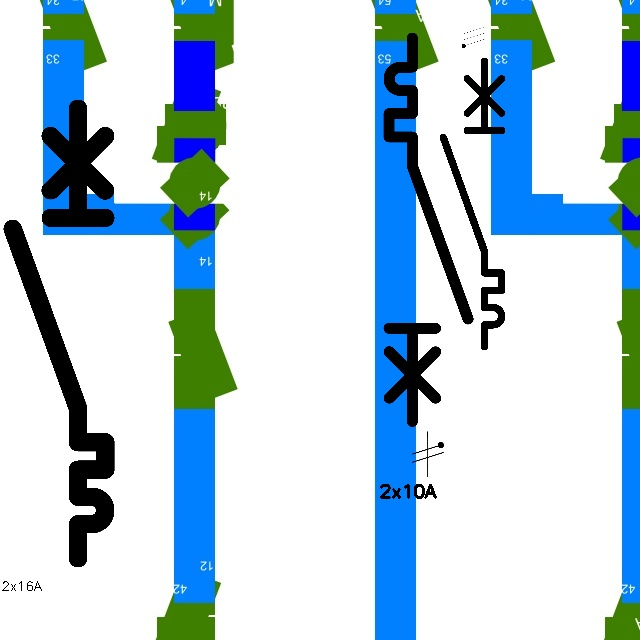interruptor_termomagnetico: (1, 97, 117, 570), (379, 28, 478, 431), (436, 53, 509, 353)
